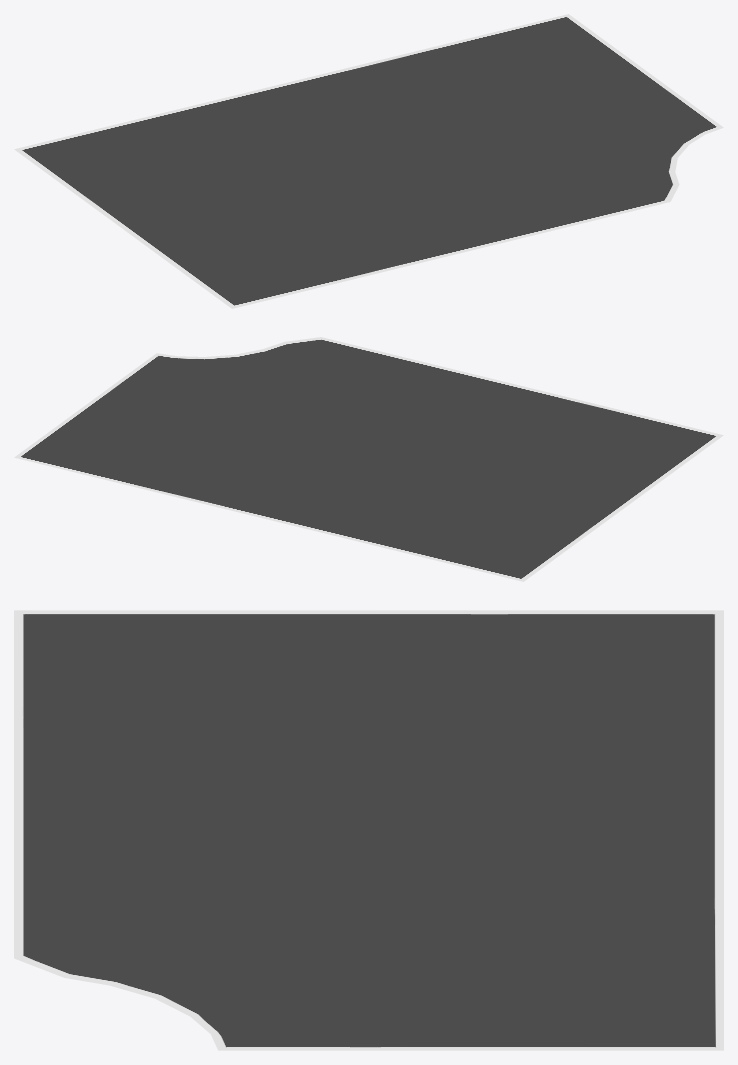
Rendered from QuarterMagic.fbx.
The picture shows the model from 3 angles, top to bottom: view 1: azimuth 30°, elevation 25°; view 2: azimuth 150°, elevation 25°; view 3: azimuth 270°, elevation 25°; orthographic projection. The views are drawn at different scales.
Parts seen in each view (by area): view 1: LeftQuarterMagic; view 2: LeftQuarterMagic; view 3: LeftQuarterMagic.
Boxes of the visible parts, bbox=[...] form: LeftQuarterMagic: bbox=[14, 14, 723, 308]; LeftQuarterMagic: bbox=[14, 337, 723, 581]; LeftQuarterMagic: bbox=[14, 610, 723, 1050].
Bounding box in the file's own units: 1043 × 0 × 710.
